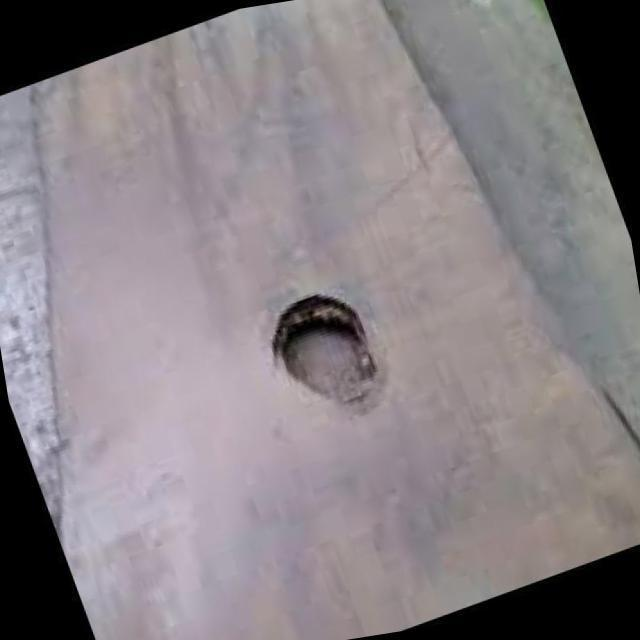Hole: (263, 289, 392, 419)
